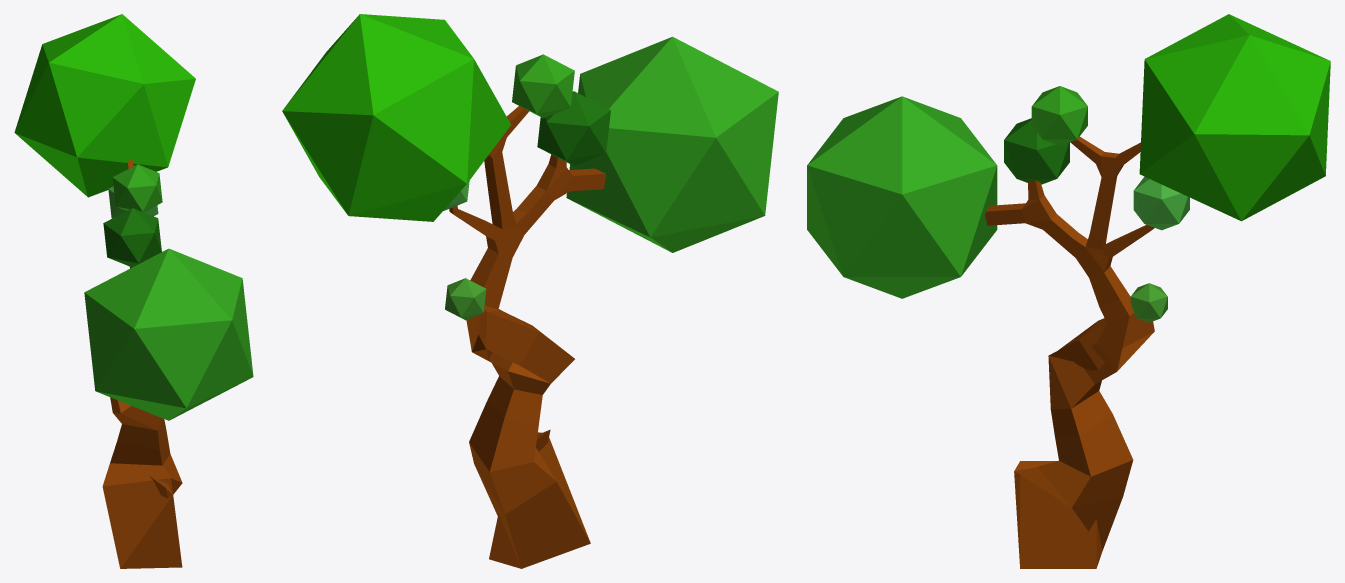
File: tree.fbx
The picture shows the model from 3 angles, left to right: view 1: azimuth 30°, elevation 25°; view 2: azimuth 150°, elevation 25°; view 3: azimuth 270°, elevation 25°; orthographic projection. The views are drawn at different scales.
Visible parts, largest first — view 1: Icosphere, Icosphere.003, Cube, Icosphere.001, Icosphere.002, Icosphere.004; view 2: Icosphere.003, Icosphere, Cube, Icosphere.001, Icosphere.002, Icosphere.005; view 3: Icosphere.003, Icosphere, Cube, Icosphere.001, Icosphere.002, Icosphere.004, Icosphere.005.
Boxes of the visible parts, bbox=[...] form: Icosphere: bbox=[84, 248, 253, 420]; Icosphere.003: bbox=[14, 14, 195, 197]; Cube: bbox=[102, 160, 182, 568]; Icosphere.001: bbox=[103, 208, 161, 267]; Icosphere.002: bbox=[112, 164, 162, 212]; Icosphere.004: bbox=[108, 186, 158, 218]; Icosphere.003: bbox=[282, 14, 510, 221]; Icosphere: bbox=[566, 36, 778, 252]; Cube: bbox=[449, 106, 606, 568]; Icosphere.001: bbox=[537, 91, 610, 165]; Icosphere.002: bbox=[512, 54, 574, 118]; Icosphere.005: bbox=[445, 278, 486, 320]; Icosphere.003: bbox=[1139, 14, 1330, 221]; Icosphere: bbox=[807, 96, 997, 298]; Cube: bbox=[985, 136, 1154, 568]; Icosphere.001: bbox=[1004, 118, 1069, 184]; Icosphere.002: bbox=[1031, 86, 1087, 145]; Icosphere.004: bbox=[1133, 176, 1189, 230]; Icosphere.005: bbox=[1130, 283, 1167, 322].
Bounding box in the file's own units: 156 × 268 × 314.
